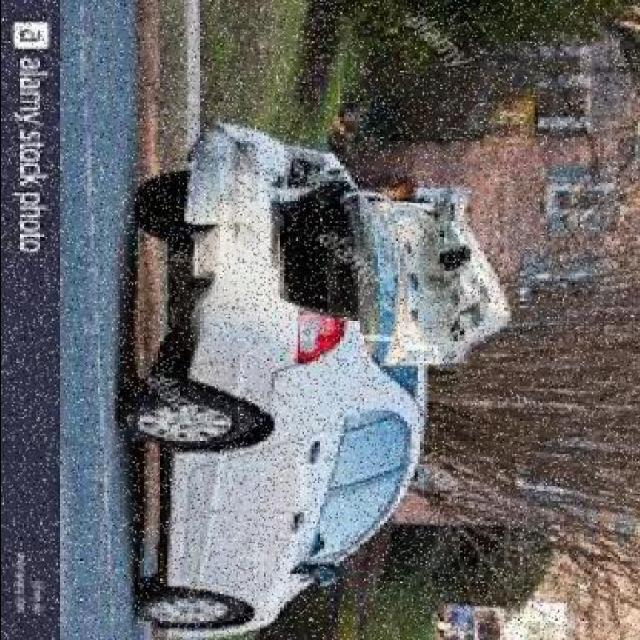rear-bumper-dent: (176, 112, 303, 403)
